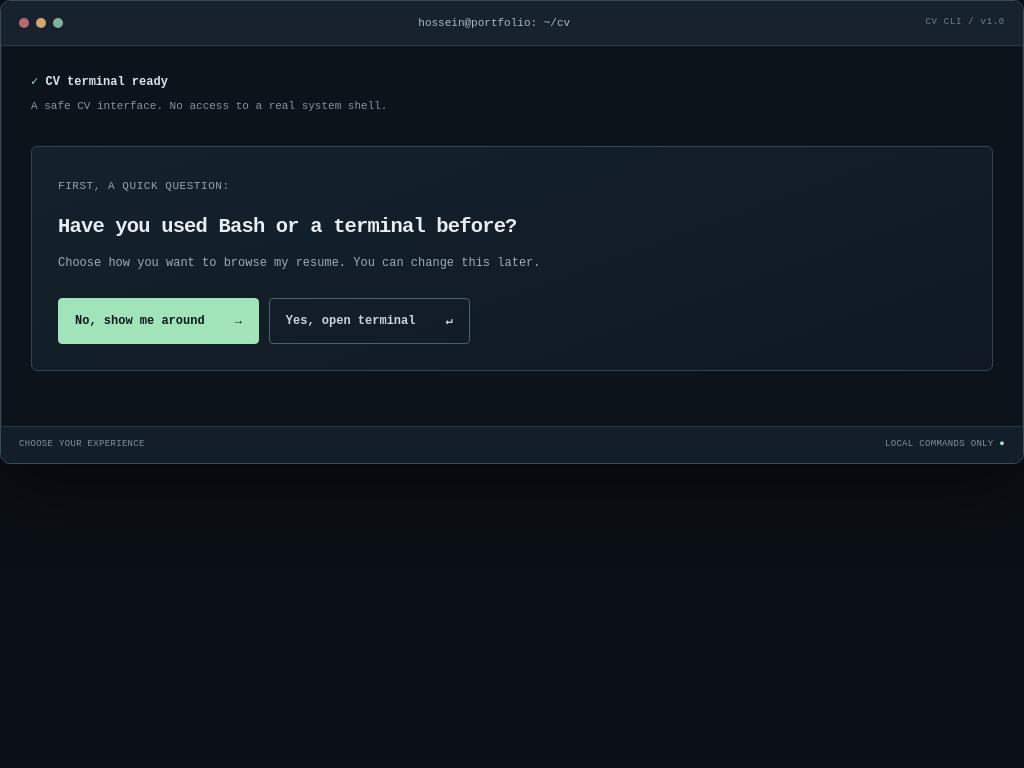
CV terminal visitor flows › opens a clean terminal for experienced visitors
This screenshot has width=1024, height=768.
Click the button "Yes, open terminal ↵". click: (369,321)
box: [269,298,470,344]
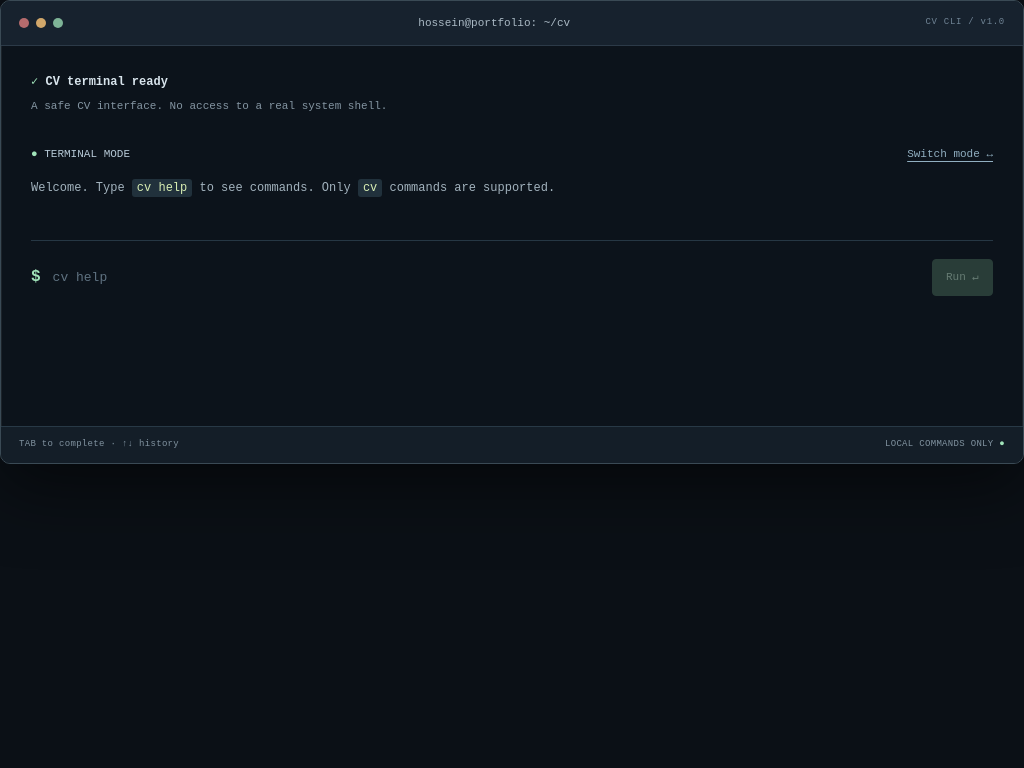
Expected: the text "TERMINAL MODE" is shown, [44,148,130,160]
Expected: the text "cv help" is shown, [132,179,192,197]
Expected: the field with id "terminal-command" is shown, [53,268,920,287]
Click the button "Switch mode ↔". click: (950,154)
box: [907,146,993,163]
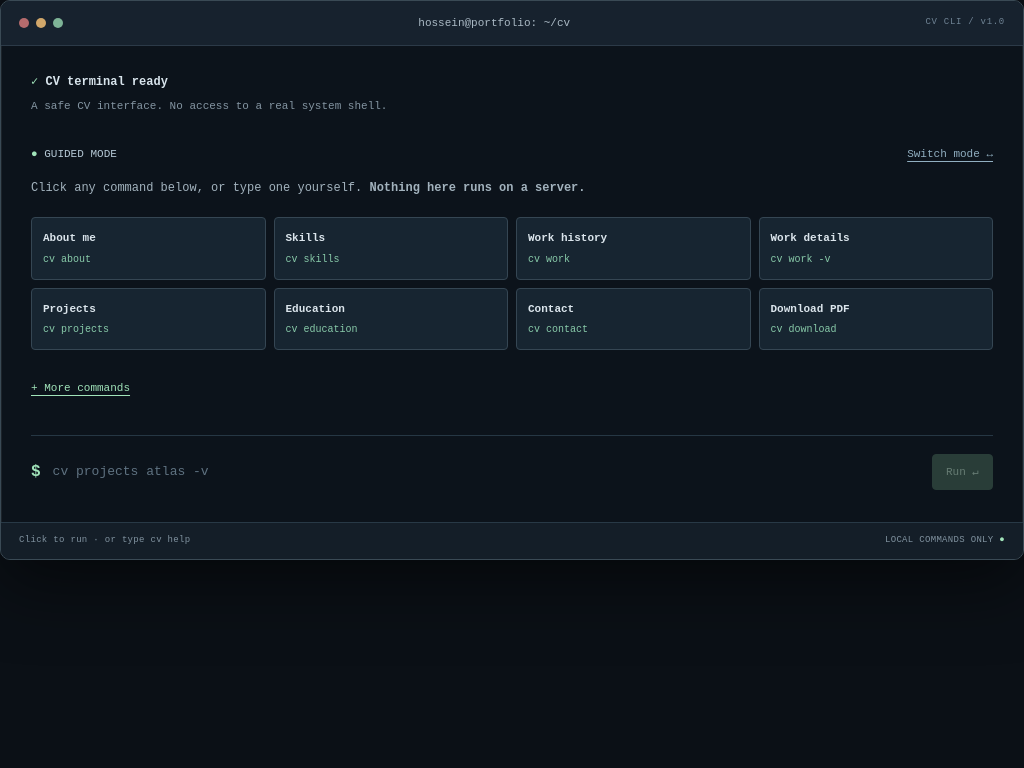
Expected: the text "GUIDED MODE" is shown, [44,148,117,160]
